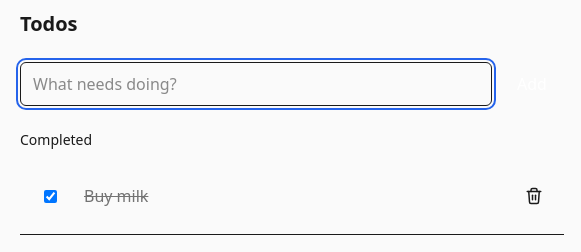
it: <App /> integration — full tree with mocked fetch › toggle completed→active moves the row back to the Active section
Expected: the heading "Completed" is shown, x1=20 y1=130 x2=92 y2=149
Click the checkbox named "Mark incomplete: Buy milk".
click(50, 196)  # box x1=44 y1=190 x2=56 y2=202
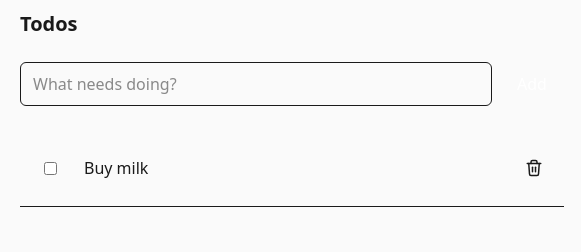
Now the heading "Completed" is gone
Now the checkbox named "Mark complete: Buy milk" is shown, box x1=44 y1=162 x2=56 y2=174
